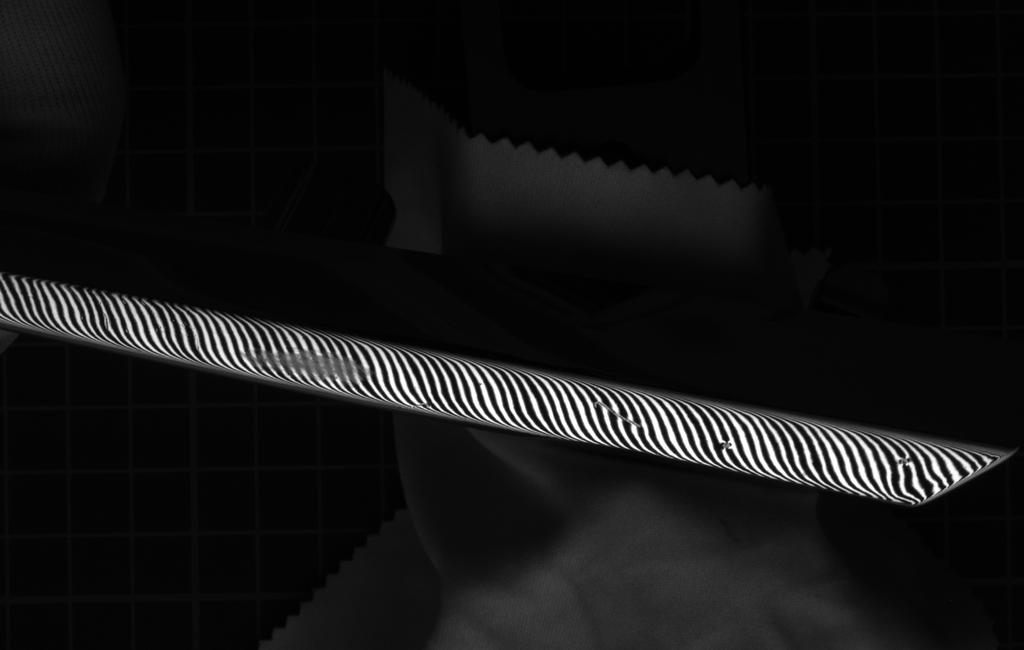Pierced: (894, 454, 919, 470), (718, 438, 741, 452)
Pitting: (232, 340, 381, 391)
Scratch: (589, 394, 654, 435)
